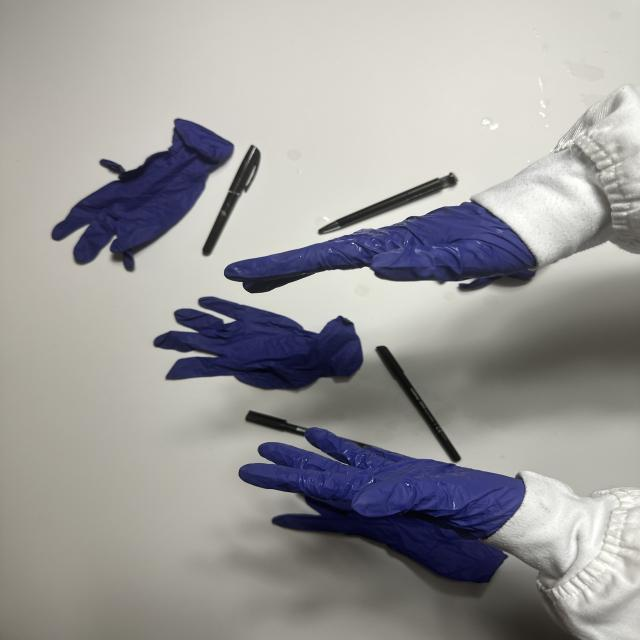gloves_contaminated: (239, 428, 525, 539), (224, 202, 536, 292)
